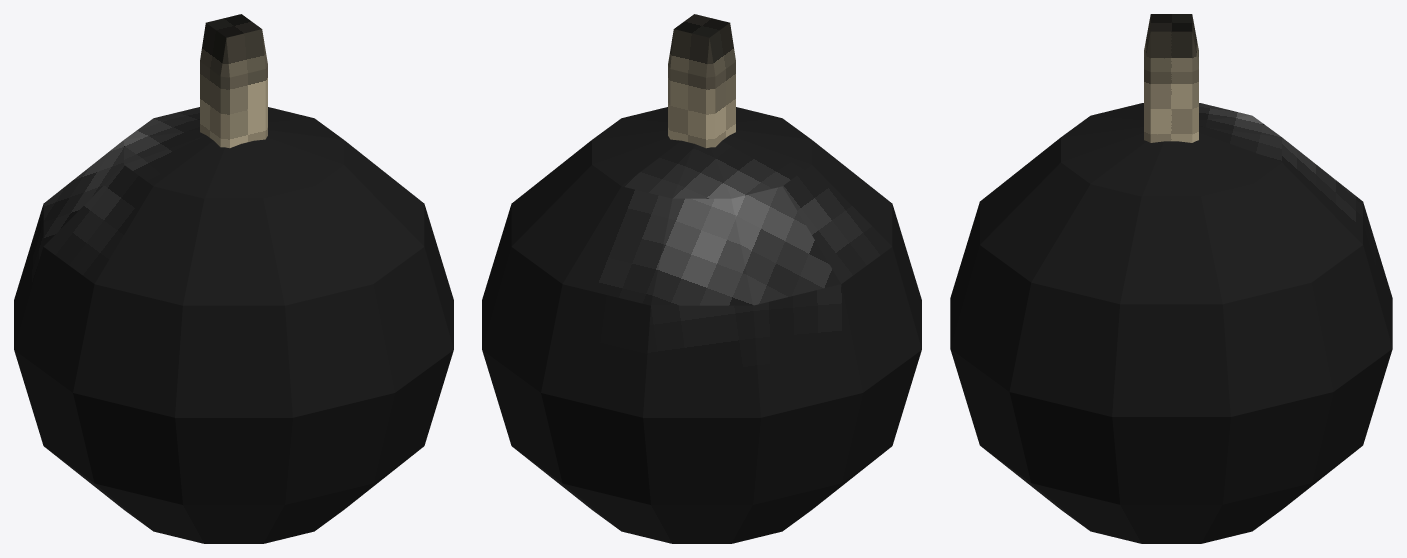
File: bomb.gltf
3 renders of one model, left to right at view 1: azimuth 30°, elevation 25°; view 2: azimuth 150°, elevation 25°; view 3: azimuth 270°, elevation 25°, orthographic.
Visible parts, largest first — view 1: sphere, beveled_cuboid; view 2: sphere, beveled_cuboid; view 3: sphere, beveled_cuboid.
Boxes of the visible parts, left/top/right/bottom form: sphere: left=14, top=107, right=453, bottom=543; beveled_cuboid: left=200, top=14, right=267, bottom=148; sphere: left=482, top=107, right=921, bottom=543; beveled_cuboid: left=668, top=14, right=735, bottom=148; sphere: left=950, top=103, right=1392, bottom=543; beveled_cuboid: left=1144, top=14, right=1198, bottom=142.
Size of the model in its own units: 1 by 1.25 by 1.
1 material, 1 textured.
